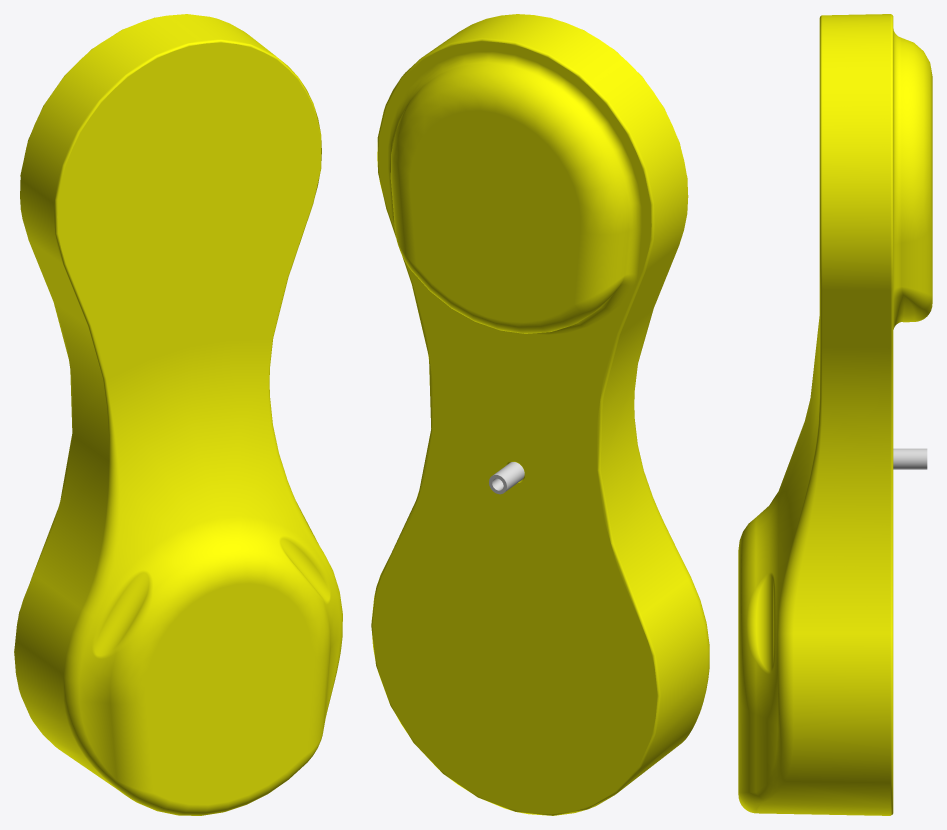
The picture shows the model from 3 angles, left to right: view 1: azimuth 30°, elevation 25°; view 2: azimuth 150°, elevation 25°; view 3: azimuth 270°, elevation 25°; orthographic projection. The views are drawn at different scales.
Visible parts, largest first — view 1: unnamed22.001; view 2: unnamed22.001, unnamed23.001; view 3: unnamed22.001, unnamed23.001.
Part boxes in pixels (<box>): unnamed22.001: <box>14,14,342,815</box>; unnamed22.001: <box>371,14,709,815</box>; unnamed23.001: <box>489,462,524,494</box>; unnamed22.001: <box>738,14,932,815</box>; unnamed23.001: <box>893,448,927,469</box>.
Bounding box in the file's own units: 128 × 325 × 74.2.
